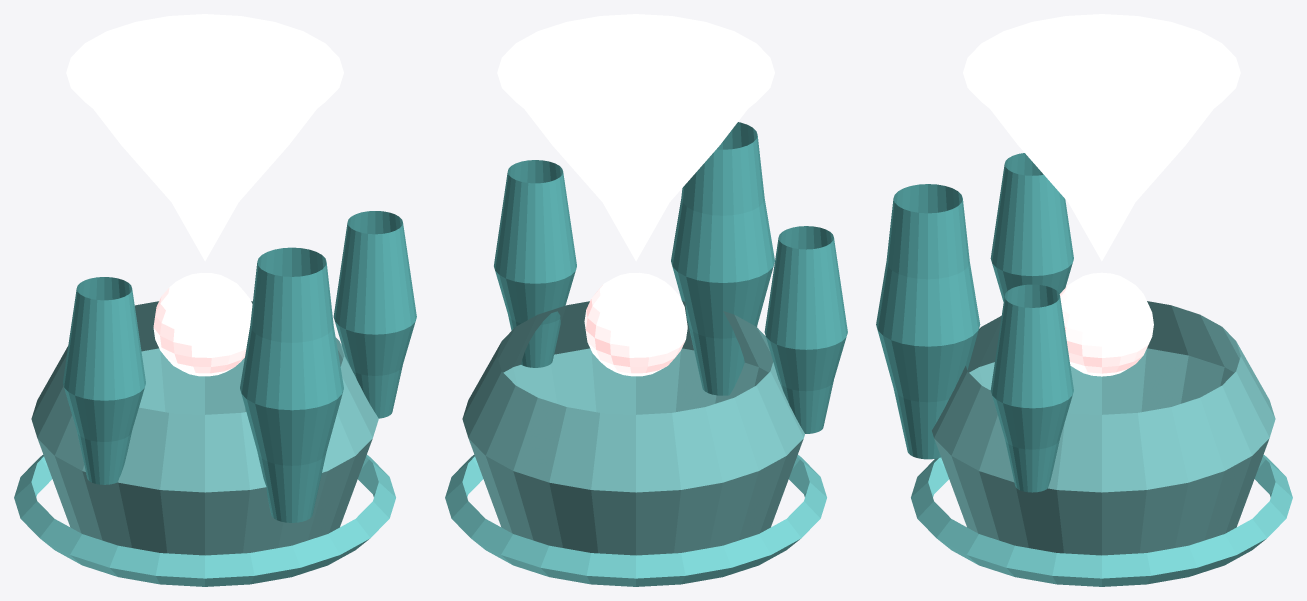
Rendered from sci-fi_ufo_with_weapons.glb.
The picture shows the model from 3 angles, left to right: view 1: azimuth 30°, elevation 25°; view 2: azimuth 150°, elevation 25°; view 3: azimuth 270°, elevation 25°; orthographic projection.
Parts seen in each view (by area): view 1: main_body, main_dome, weapon_center, ring_base, weapon_left, weapon_right, energy_core; view 2: main_body, main_dome, weapon_center, ring_base, weapon_left, weapon_right, energy_core; view 3: main_body, main_dome, weapon_center, ring_base, weapon_right, weapon_left, energy_core.
Part boxes in pixels (x1=…): main_body: x1=31, y1=301, x2=378, y2=555; main_dome: x1=66, y1=14, x2=343, y2=261; weapon_center: x1=240, y1=247, x2=343, y2=522; ring_base: x1=14, y1=454, x2=395, y2=586; weapon_left: x1=63, y1=277, x2=145, y2=484; weapon_right: x1=333, y1=211, x2=416, y2=418; energy_core: x1=153, y1=273, x2=252, y2=376; main_body: x1=462, y1=301, x2=804, y2=555; main_dome: x1=497, y1=14, x2=774, y2=261; weapon_center: x1=671, y1=122, x2=774, y2=395; ring_base: x1=445, y1=454, x2=826, y2=586; weapon_left: x1=764, y1=226, x2=847, y2=433; weapon_right: x1=494, y1=160, x2=576, y2=367; energy_core: x1=584, y1=272, x2=687, y2=376; main_body: x1=932, y1=301, x2=1275, y2=555; main_dome: x1=963, y1=14, x2=1240, y2=261; weapon_center: x1=876, y1=184, x2=980, y2=459; ring_base: x1=911, y1=454, x2=1292, y2=586; weapon_right: x1=990, y1=284, x2=1073, y2=492; weapon_left: x1=990, y1=153, x2=1073, y2=301; energy_core: x1=1059, y1=272, x2=1153, y2=376.
Bounding box in the file's own units: 1.14 × 1.4 × 1.2.
